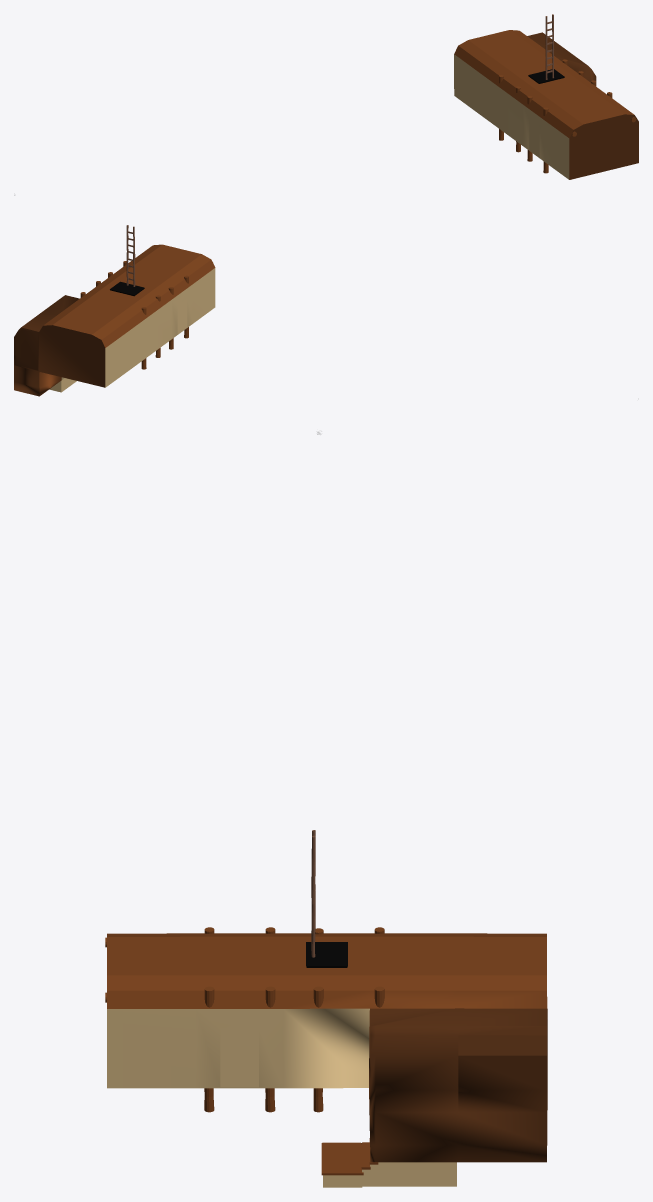
File: parte do fut casarao (1).fbx
The picture shows the model from 3 angles, top to bottom: view 1: azimuth 30°, elevation 25°; view 2: azimuth 150°, elevation 25°; view 3: azimuth 270°, elevation 25°; orthographic projection. The views are drawn at different scales.
Parts seen in each view (by area): view 1: Cube.019, Circle.001; view 2: Cube.019, Circle.001; view 3: Cube.019, Cube.021.
Part boxes in pixels (box(x1,y1,x2,y2)): Cube.019: box(454, 30, 638, 179); Circle.001: box(545, 14, 554, 79); Cube.019: box(14, 244, 215, 396); Circle.001: box(126, 225, 135, 286); Cube.019: box(107, 933, 547, 1162); Cube.021: box(321, 1138, 456, 1187).
Size of the model in its own units: 2399 by 602 by 810.
